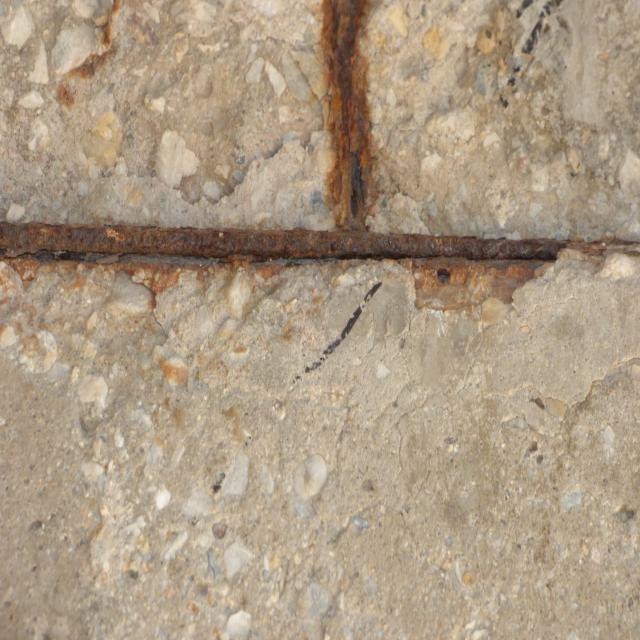corrosion: (0, 0, 635, 326)
